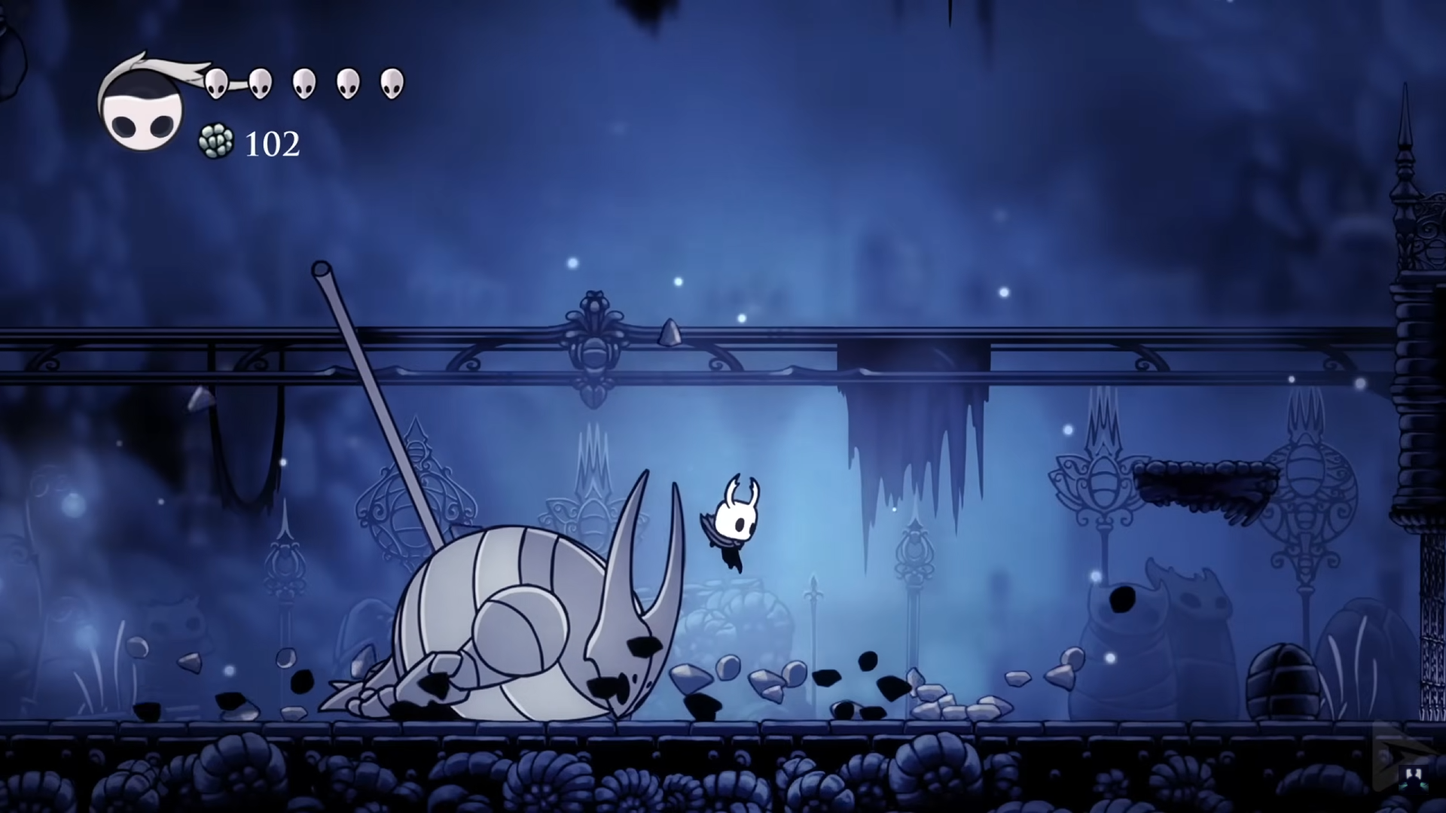HK: (700, 471, 763, 574)
